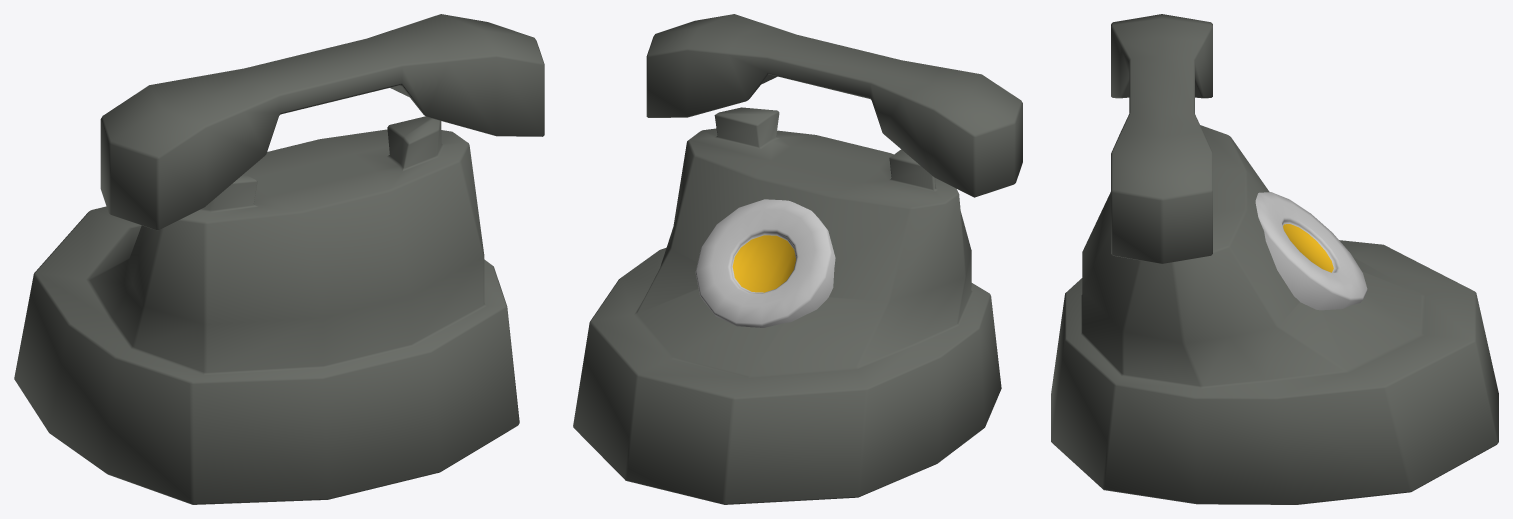
Rendered from LandllinePhone.fbx.
3 renders of one model, left to right at view 1: azimuth 30°, elevation 25°; view 2: azimuth 150°, elevation 25°; view 3: azimuth 270°, elevation 25°, orthographic. The views are drawn at different scales.
Visible parts, largest first — view 1: LandlinePhone; view 2: LandlinePhone; view 3: LandlinePhone.
Part boxes in pixels (left/top/right/bottom): LandlinePhone: left=14, top=14, right=544, bottom=504; LandlinePhone: left=573, top=14, right=1022, bottom=504; LandlinePhone: left=1051, top=14, right=1498, bottom=504.
Size of the model in its own units: 35.78 by 30.13 by 36.6.
